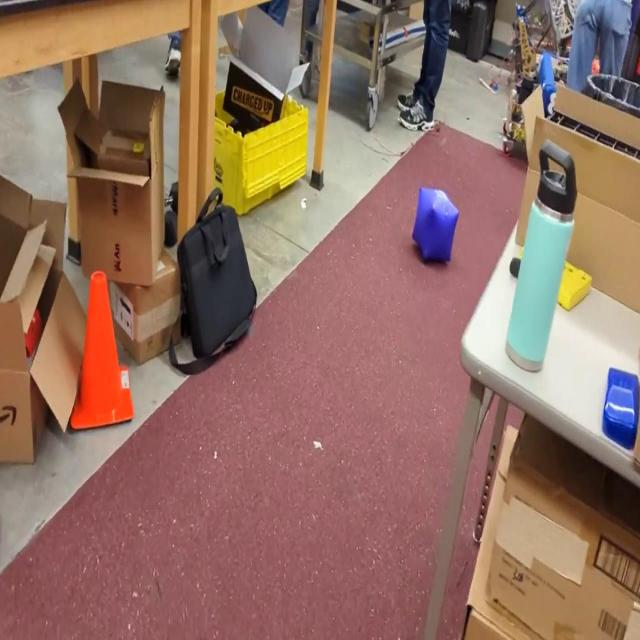frc_cube: (410, 186, 460, 263)
